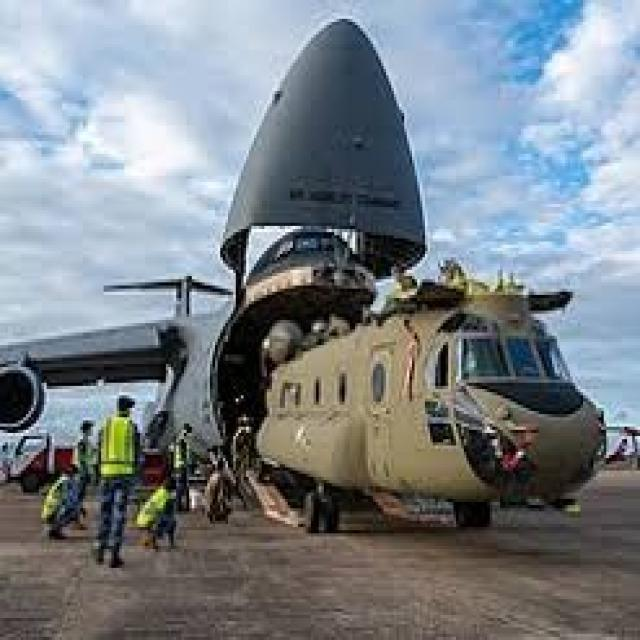C5: (0, 0, 640, 608)
